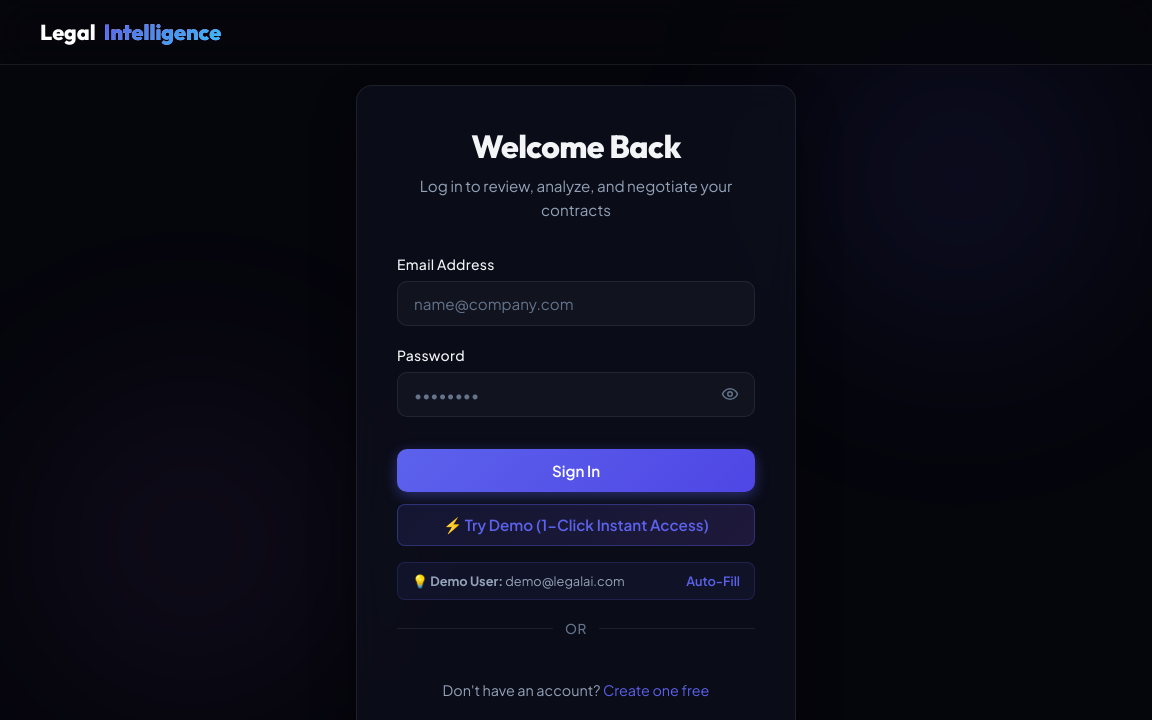
Scenario: LoginPage Component Tests › displays an error message when login fails with invalid credentials
Type "wrong@example.com" into the field with placeholder "name@company.com". click: (576, 303)
box: [397,281,755,326]
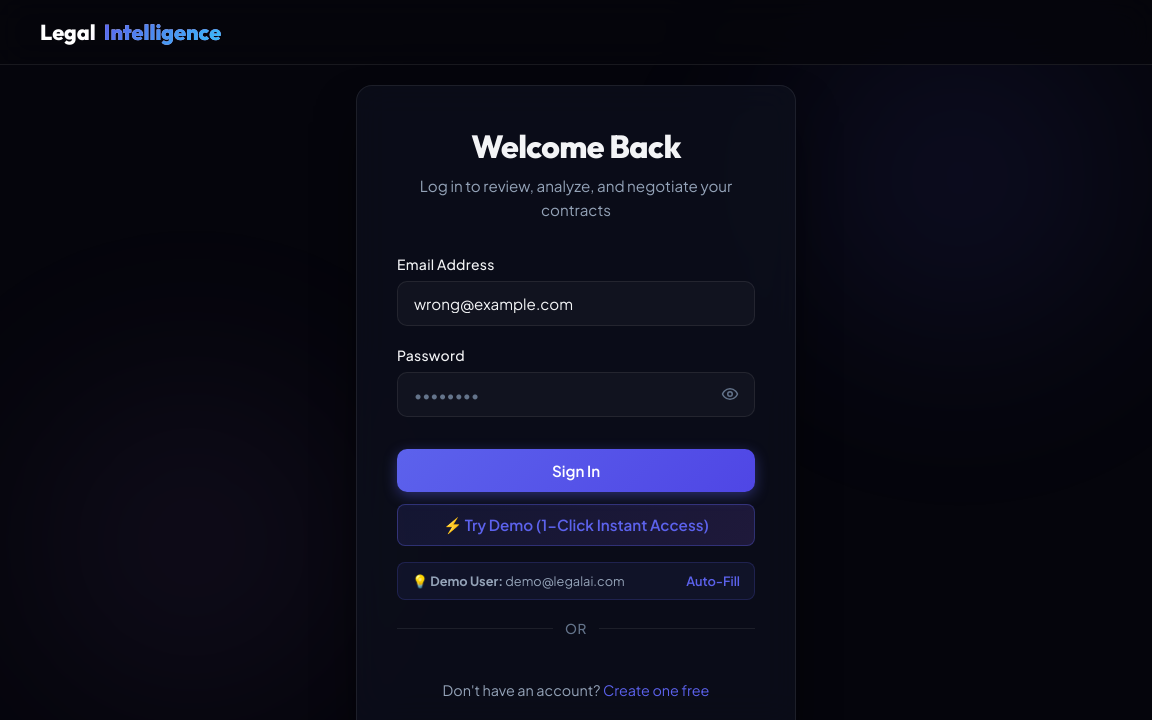
Type "WrongPassword" into the password field with placeholder "••••••••". click: (576, 394)
box: [397,372,755,417]
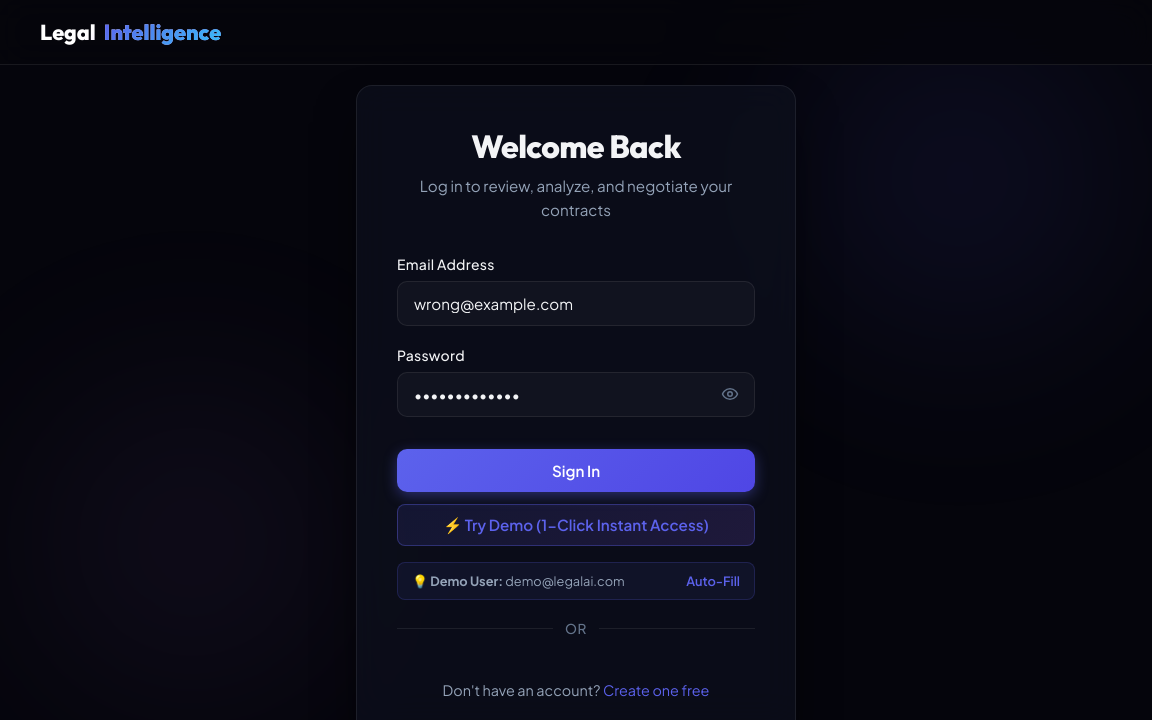
Click the button "Sign In". click: click(576, 470)
box: [397,449,755,492]
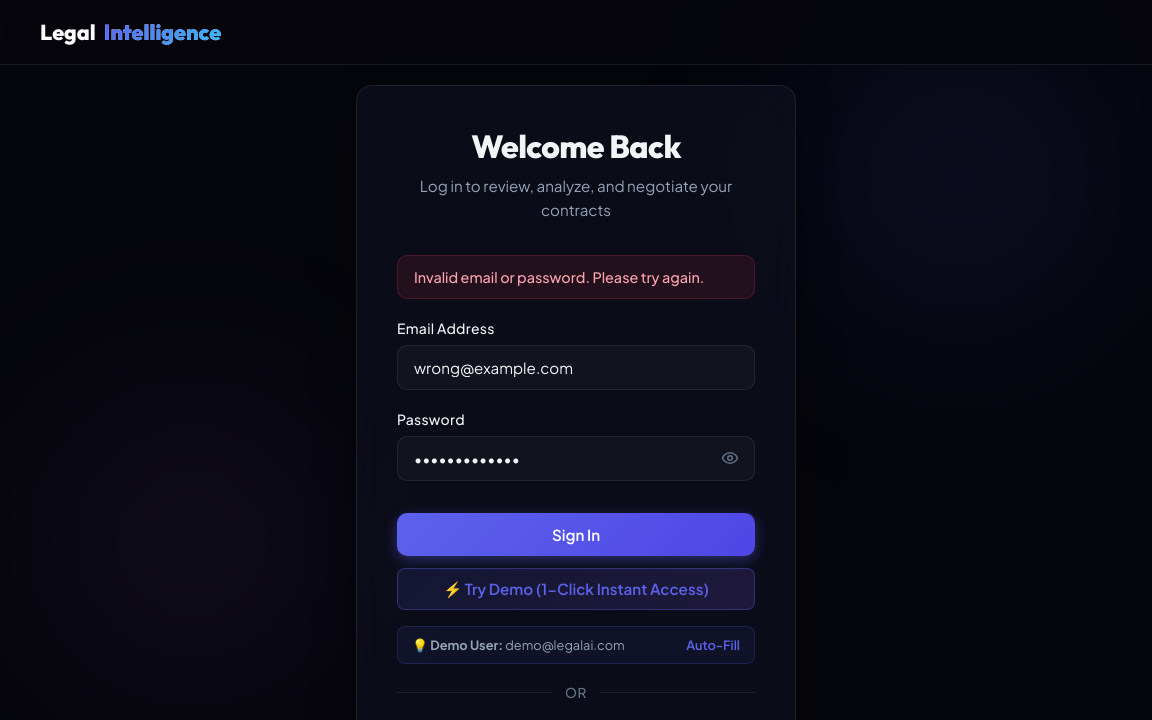
Check: the text "Invalid email or password. Please try again." is shown, box [397,255,755,299]
